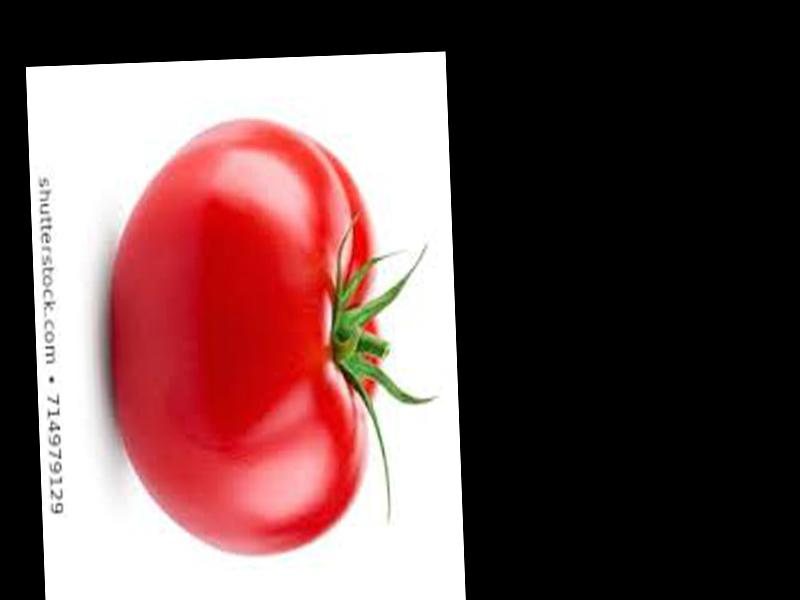Tomato: (105, 113, 383, 560)
